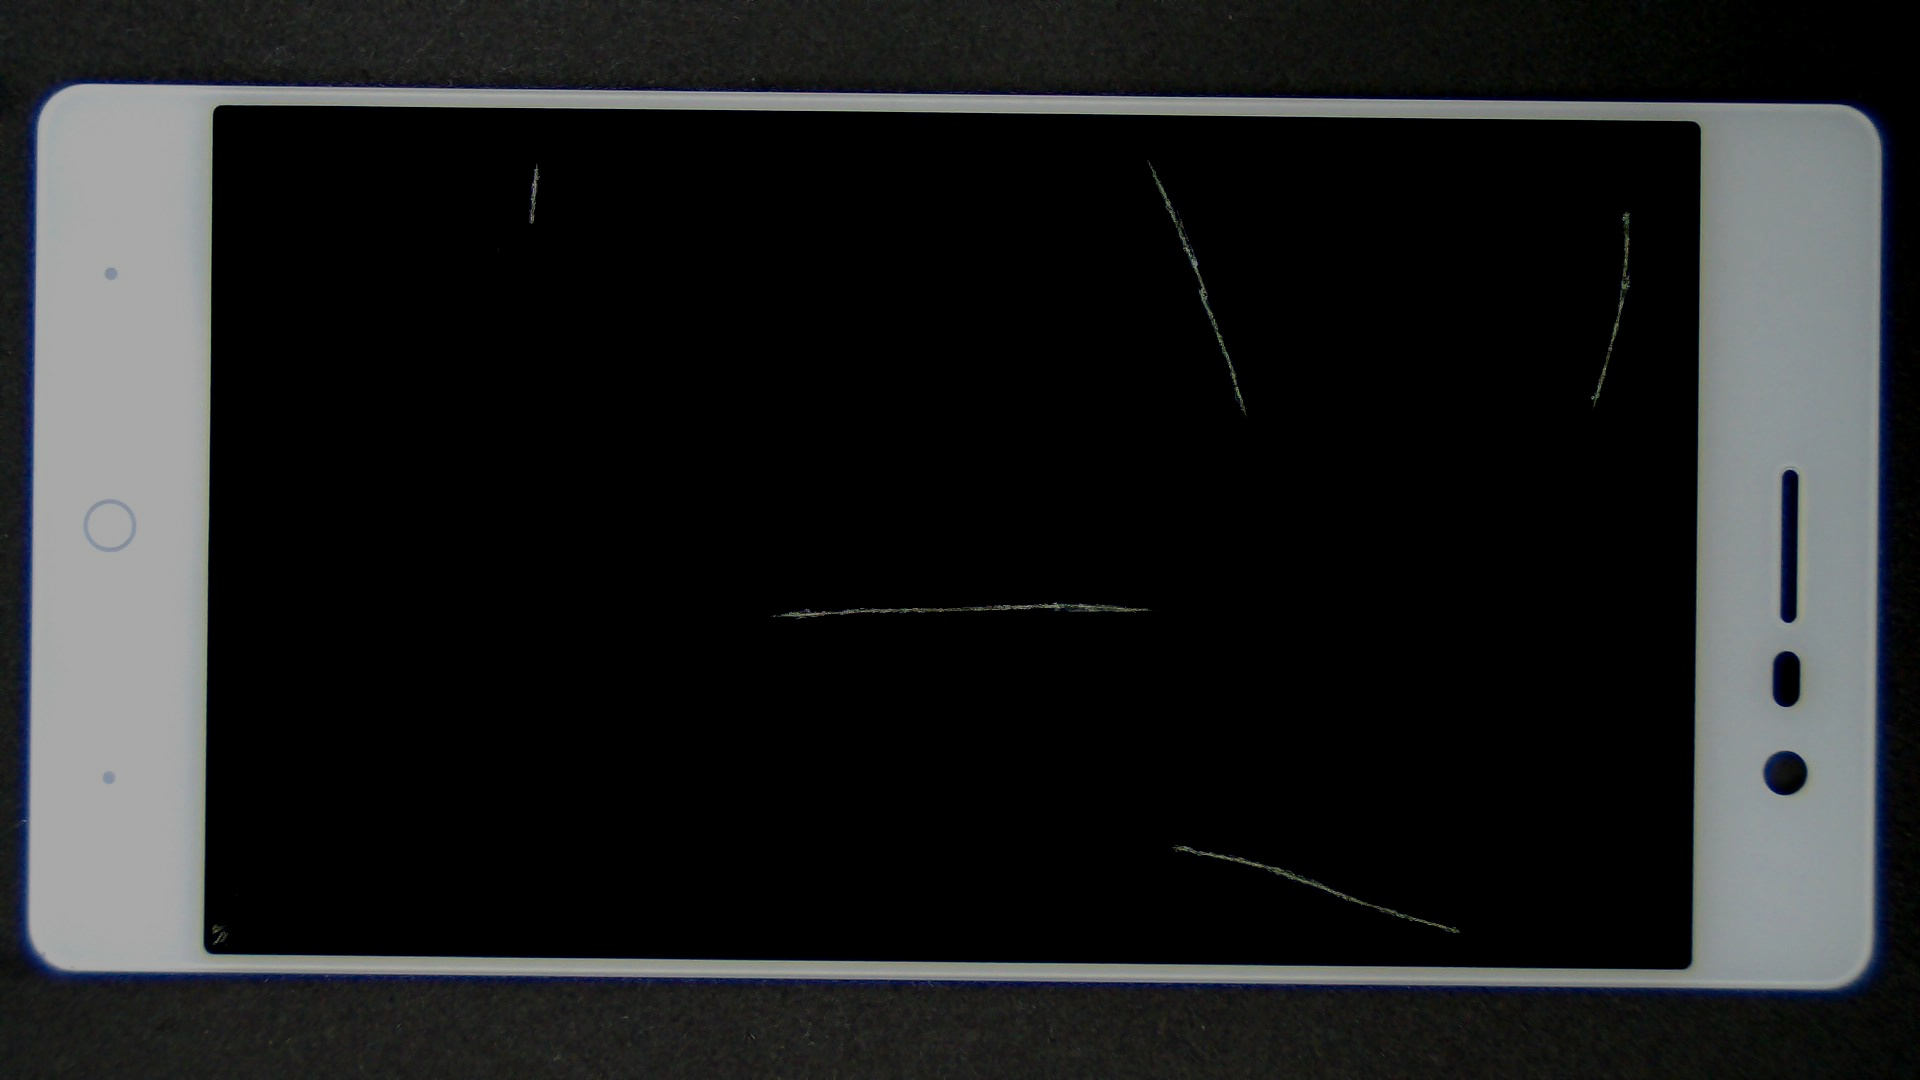oil: (589, 422, 1767, 1080), (527, 301, 1581, 903), (812, 94, 1920, 305), (574, 78, 1721, 240), (109, 459, 323, 1080), (249, 119, 746, 363), (269, 80, 803, 244)
